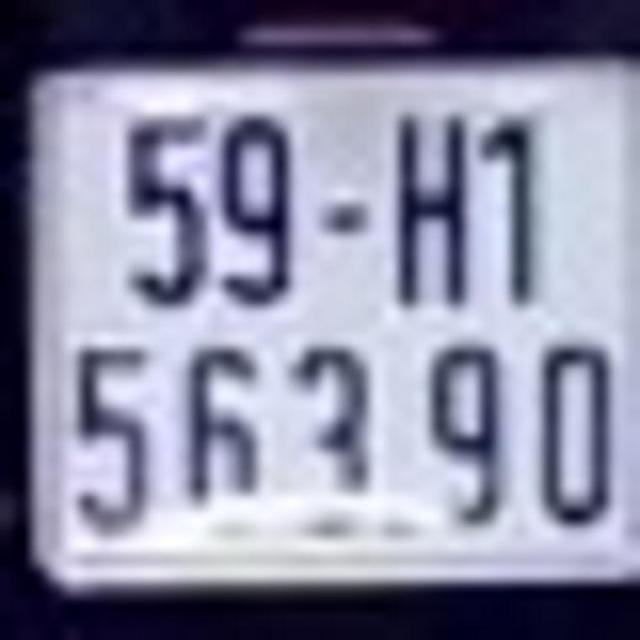0: (530, 328, 616, 535)
1: (488, 116, 540, 308)
3: (293, 343, 374, 544)
5: (122, 109, 206, 312), (74, 340, 154, 544)
6: (184, 337, 268, 545)
9: (212, 110, 298, 316), (423, 342, 502, 534)
H: (388, 116, 474, 312)
